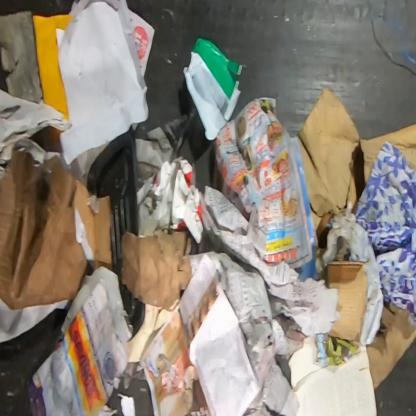cardboard: (297, 85, 415, 248), (0, 149, 113, 312), (122, 230, 192, 309), (366, 299, 415, 392), (328, 261, 370, 346), (359, 124, 415, 184)
rigid_plastic: (88, 130, 145, 336), (182, 38, 244, 141)
